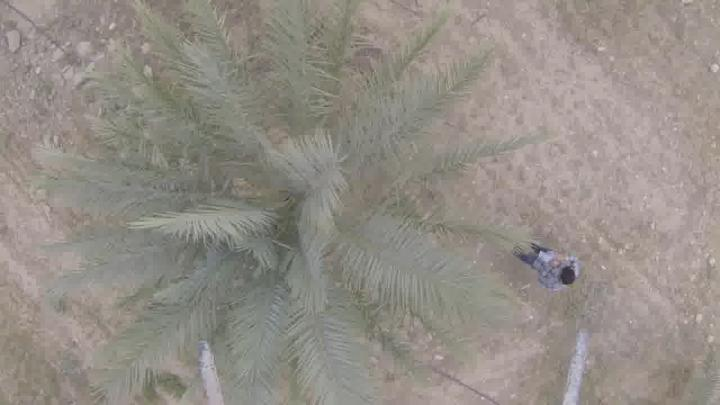Date-Palm-Crown: (152, 57, 426, 349)
